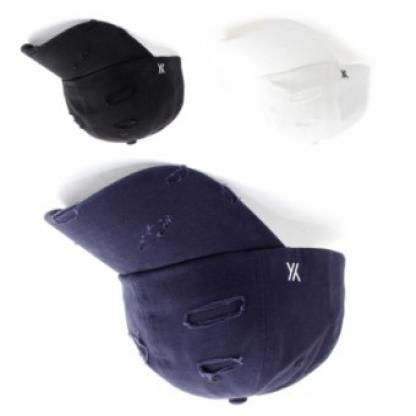cap: (38, 162, 355, 411), (10, 19, 192, 148), (204, 20, 384, 150)
